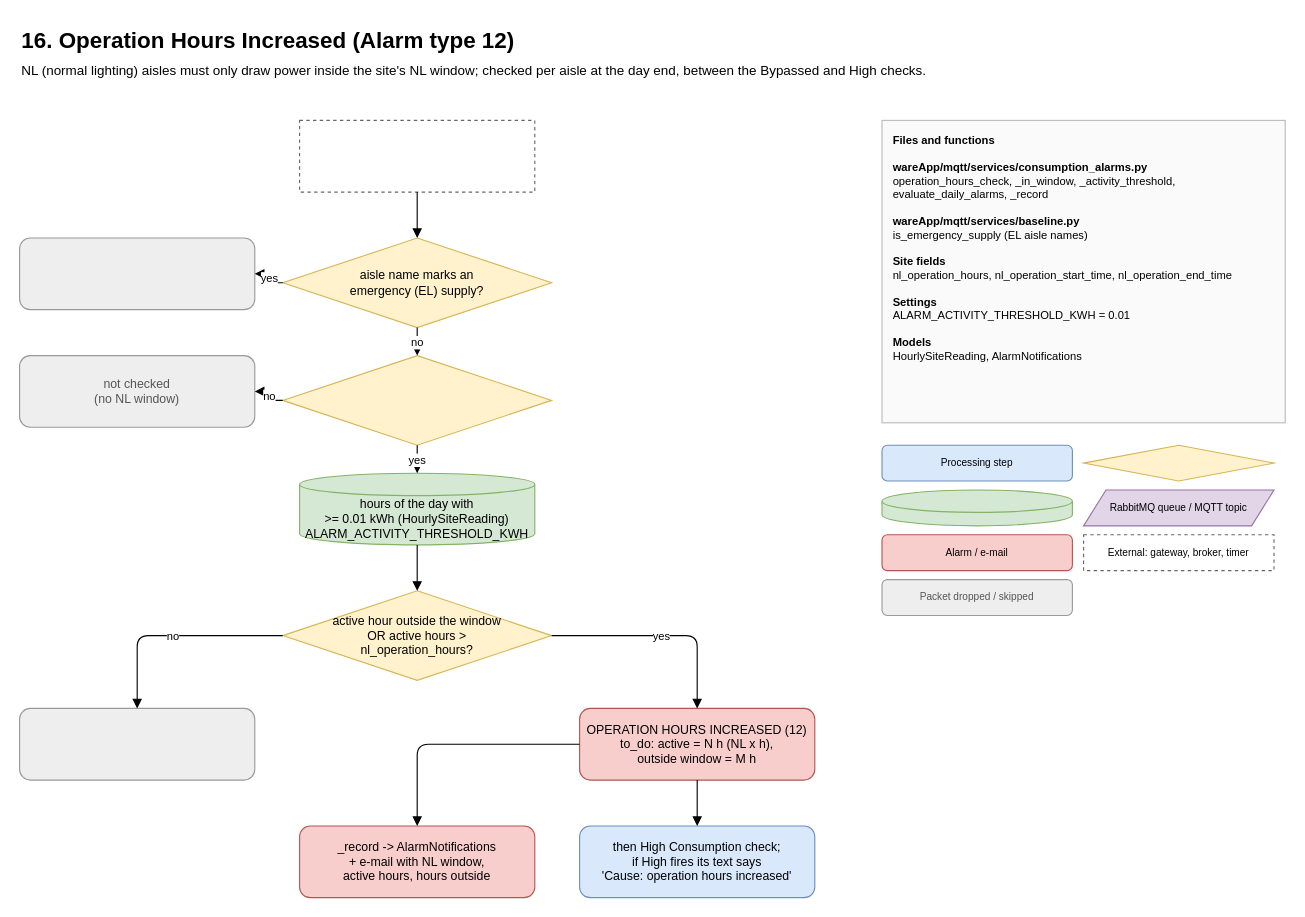
This 1305x917 diagram has some shape labels left out. The shapes that lost their labels are listed below. From the top down, each one's centre as x and y in pixels, then its label:
pixel 416 155: day-end check of one aisle (flow 14: after Bypassed was not raised)
pixel 136 273: not checked (EL aisles run 24 h)
pixel 417 399: site.nl_operation_hours + start + end time set?
pixel 1178 462: Decision
pixel 976 507: Database table
pixel 136 743: no alarm
